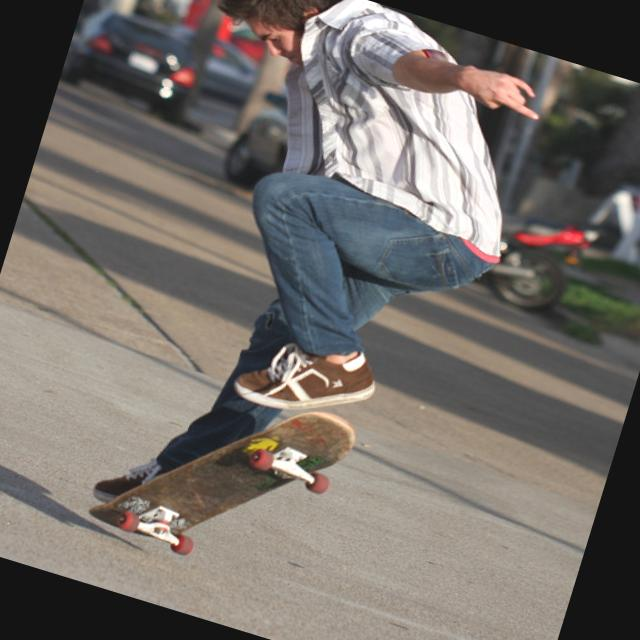Vehicle: (73, 0, 262, 121), (479, 208, 590, 322), (215, 74, 307, 200)
